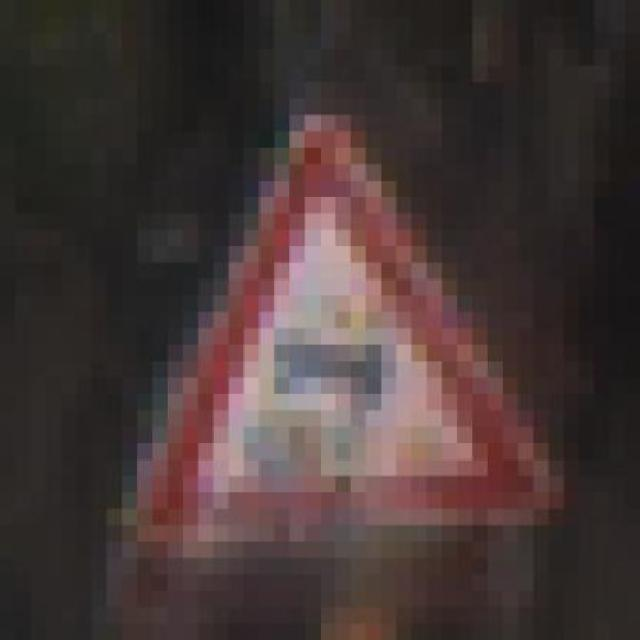Slippery Road Ahead: (76, 81, 564, 558)
